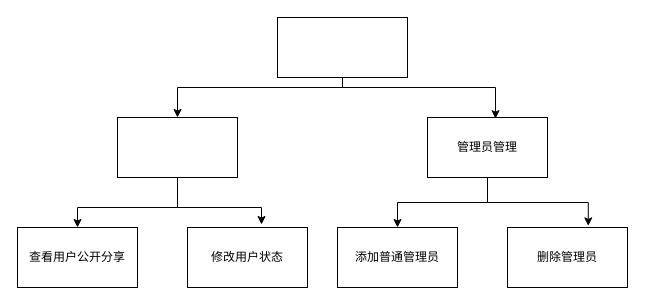
The diagram is 645 pixels wide and 305 high, and some of its shapes have lost their labels. Each missing label, with the centre of its shape:
后台管理系统功能模块: the point at 342,47
用户管理: the point at 177,147
